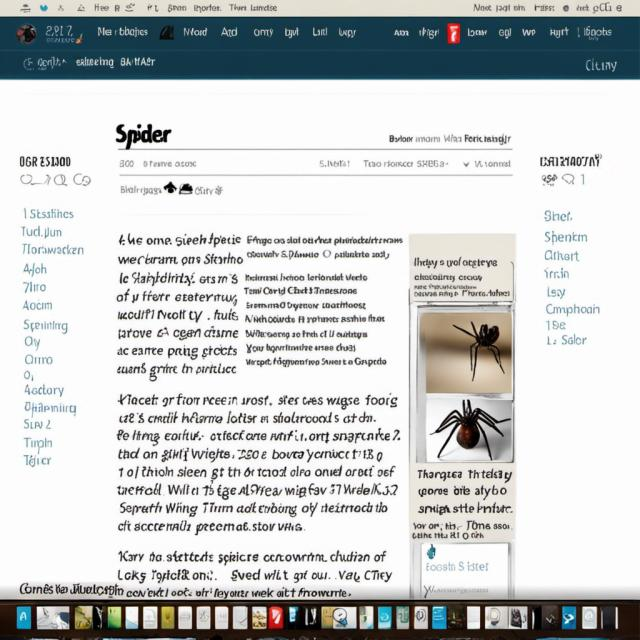spider: (426, 396, 512, 465), (444, 315, 506, 386)
